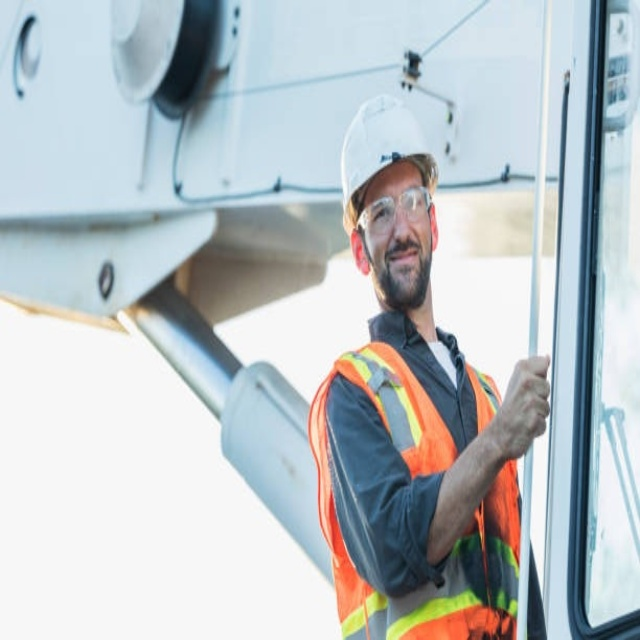Gafas: (358, 184, 434, 236)
Sin_guantes: (495, 350, 553, 461)
Sin_mascara: (381, 240, 426, 285)
